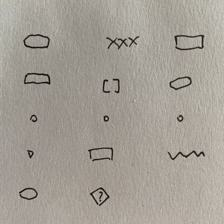complex-sbgn: (22, 33, 52, 49)
dsNA: (104, 34, 142, 50)
generic-sbgn: (18, 187, 39, 201)
halfround-rectangle: (173, 32, 205, 50), (88, 146, 114, 162)
macromolecule: (24, 71, 52, 86)
no-glyph-assigned: (102, 78, 120, 94)
protein: (168, 76, 193, 90)
replacement-glyph: (89, 186, 110, 207)
simple-chemical-circle: (29, 113, 38, 123)
simple-chemical-hexagon: (102, 114, 110, 123)
simple-chemical-pentagon: (176, 113, 185, 122)
simple-chemical-triangle: (26, 148, 35, 159)
ssNA: (167, 149, 207, 161)
